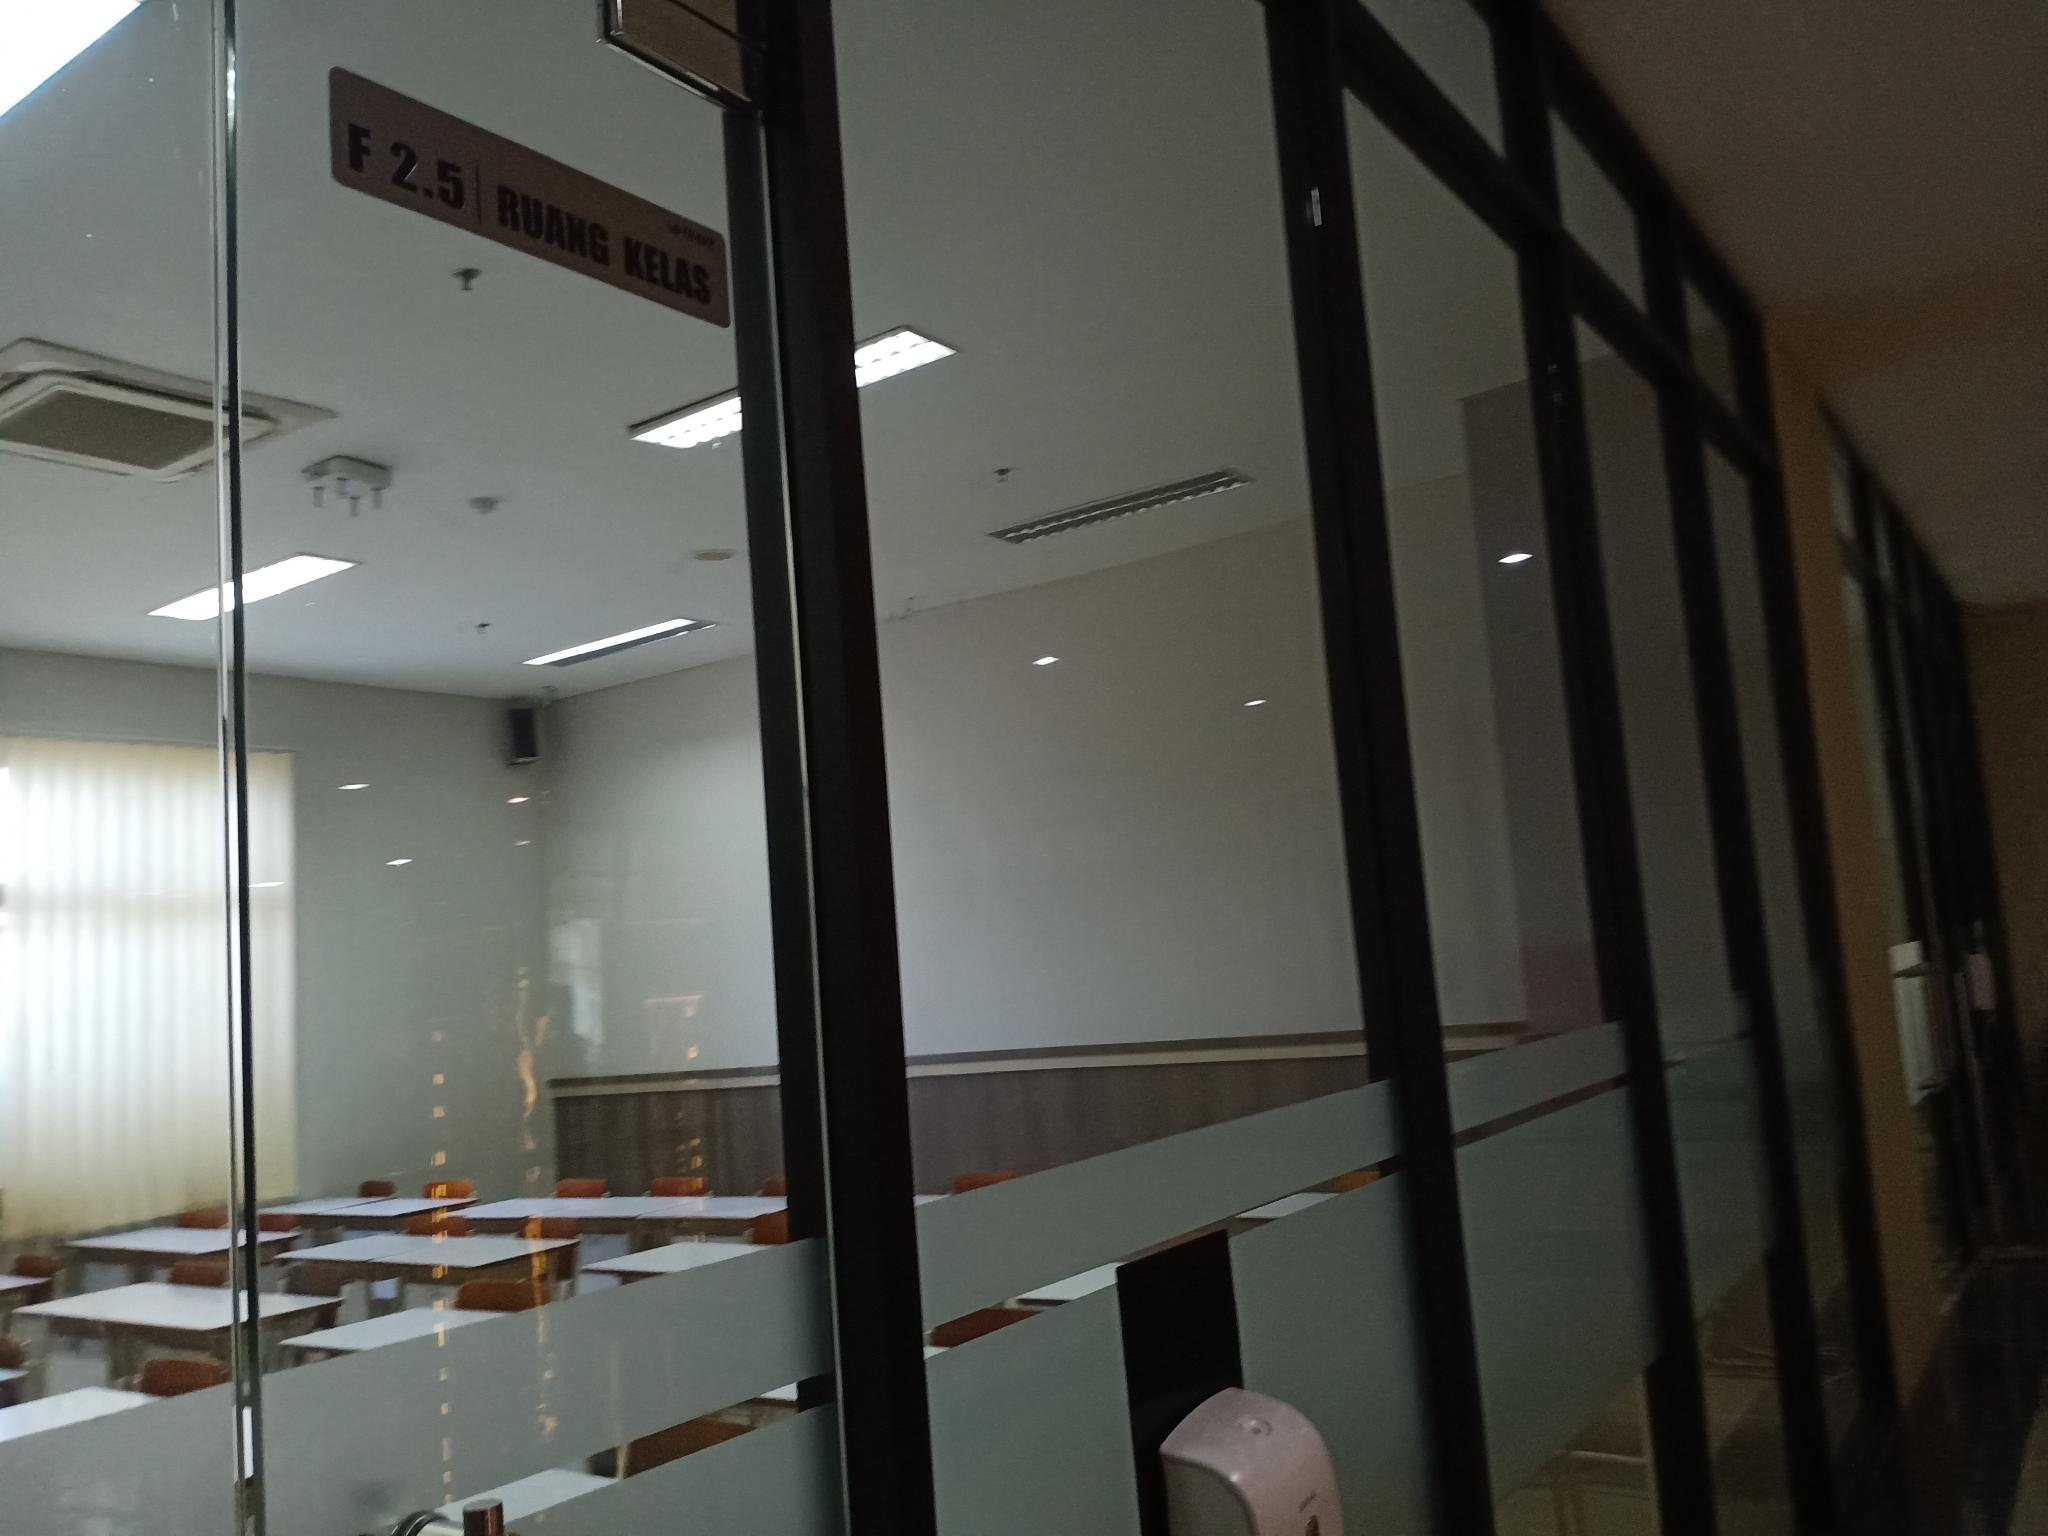plate: (329, 56, 732, 332)
